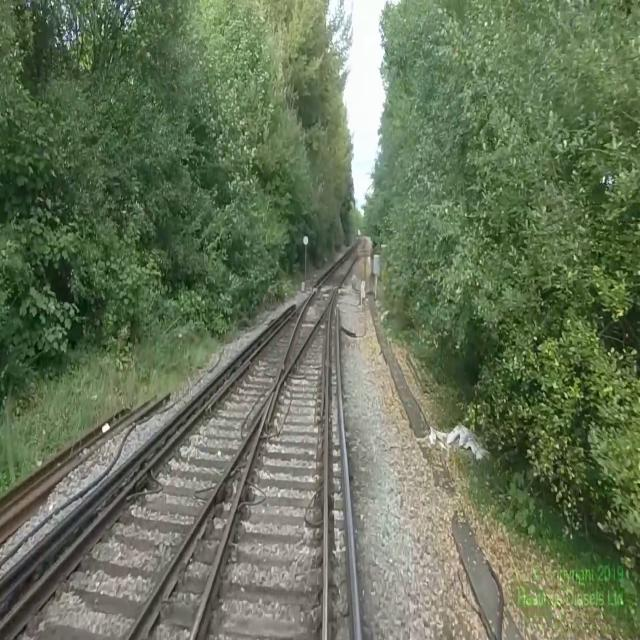rail-track: (0, 303, 304, 639), (197, 300, 330, 639), (281, 257, 354, 374)
